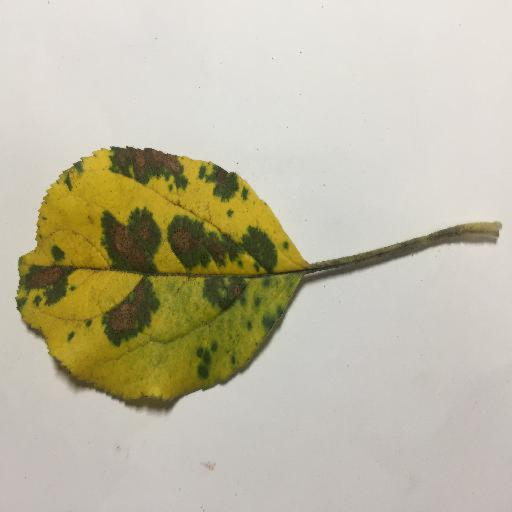Brown_Spot: (99, 224, 148, 270), (111, 149, 180, 172), (113, 289, 144, 326), (25, 268, 70, 284), (170, 234, 201, 251), (210, 239, 227, 257), (213, 170, 230, 184), (230, 284, 241, 296)
